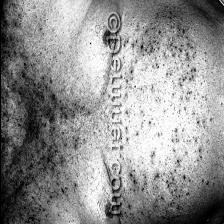Non-Cancerous Skin Condition: (124, 13, 201, 218), (14, 43, 80, 202)
